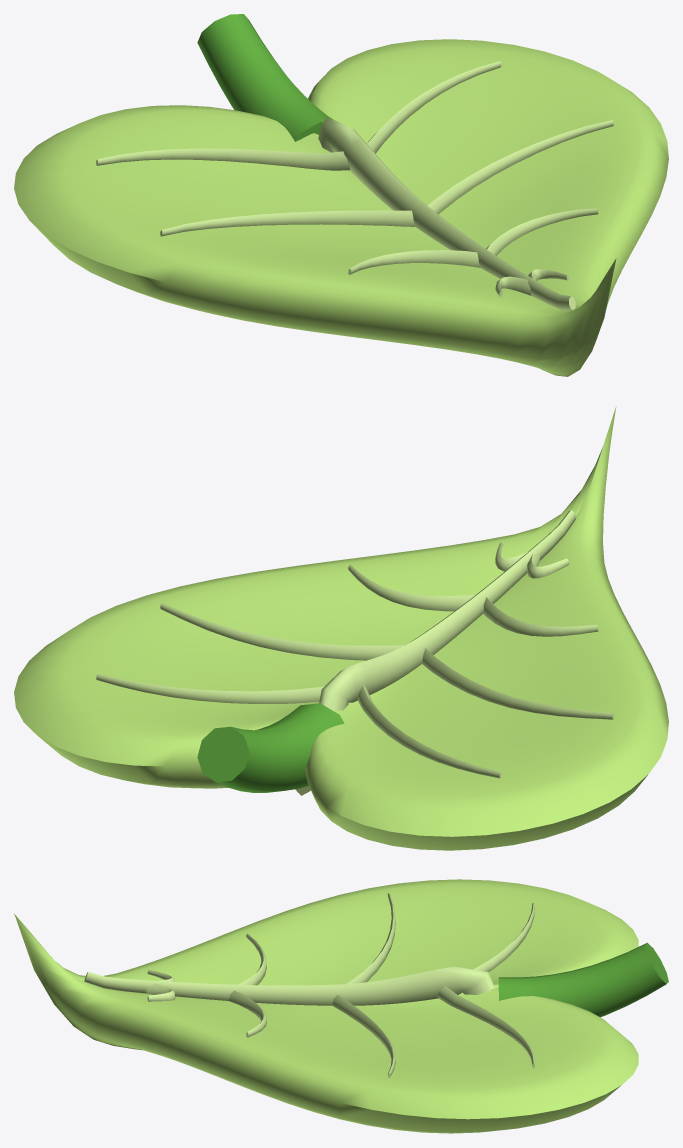
Rendered from giant_leaf_bouncy.glb.
The picture shows the model from 3 angles, top to bottom: view 1: azimuth 30°, elevation 25°; view 2: azimuth 150°, elevation 25°; view 3: azimuth 270°, elevation 25°; orthographic projection. The views are drawn at different scales.
Parts seen in each view (by area): view 1: giant_leaf_bouncy; view 2: giant_leaf_bouncy; view 3: giant_leaf_bouncy.
Part boxes in pixels (x1,y1,x2,y2): giant_leaf_bouncy: (14, 14, 668, 376); giant_leaf_bouncy: (14, 406, 668, 850); giant_leaf_bouncy: (14, 879, 668, 1133).
Size of the model in its own units: 3.38 by 1 by 4.
